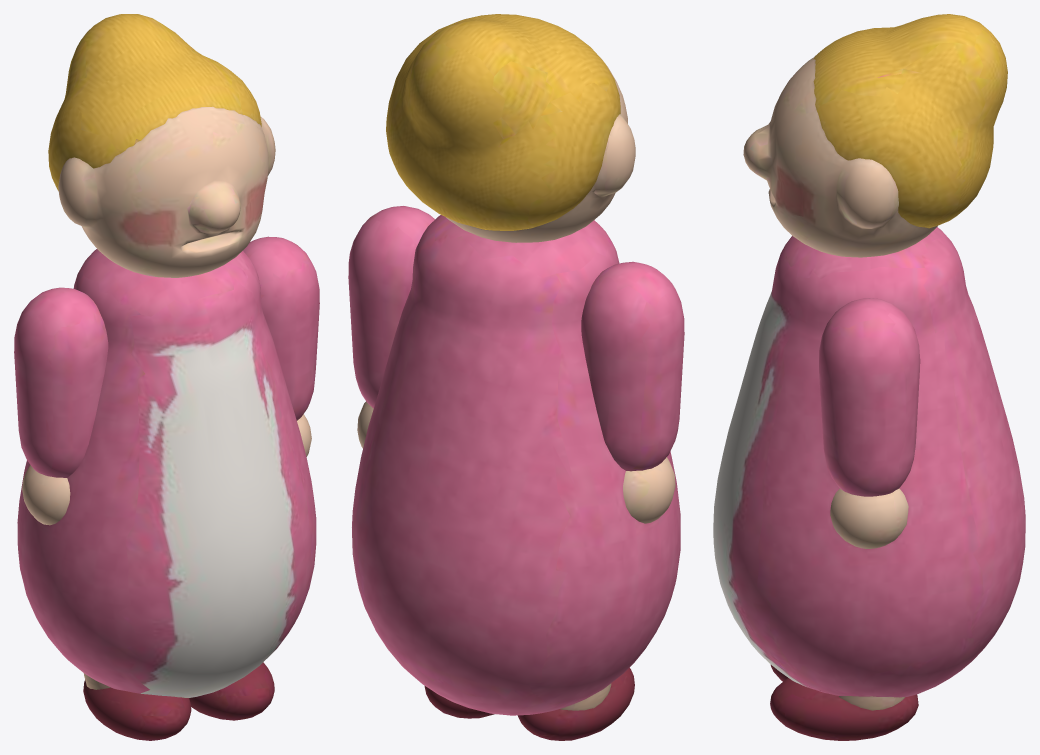
Rendered from villager_rosie.glb.
The picture shows the model from 3 angles, left to right: view 1: azimuth 30°, elevation 25°; view 2: azimuth 150°, elevation 25°; view 3: azimuth 270°, elevation 25°; orthographic projection. The views are drawn at different scales.
Parts seen in each view (by area): view 1: body, head, arm0, arm1, leg0, leg1; view 2: body, head, arm0, arm1, leg0, leg1; view 3: body, head, arm1, leg1.
Boxes of the visible parts, left/top/right/bottom form: body: left=17, top=249, right=316, bottom=697; head: left=48, top=14, right=275, bottom=277; arm0: left=14, top=287, right=108, bottom=525; arm1: left=243, top=236, right=319, bottom=456; leg0: left=83, top=673, right=191, bottom=740; leg1: left=189, top=662, right=274, bottom=720; body: left=352, top=215, right=680, bottom=715; head: left=386, top=14, right=635, bottom=242; arm0: left=581, top=261, right=684, bottom=523; arm1: left=348, top=206, right=434, bottom=448; leg0: left=517, top=667, right=634, bottom=740; leg1: left=424, top=686, right=494, bottom=718; body: left=713, top=227, right=1025, bottom=697; head: left=743, top=14, right=1007, bottom=257; arm1: left=819, top=298, right=920, bottom=548; leg1: left=770, top=678, right=918, bottom=740.
Bounding box in the file's own units: 0.421 × 0.9131 × 0.3728.
1 material, 1 textured.
